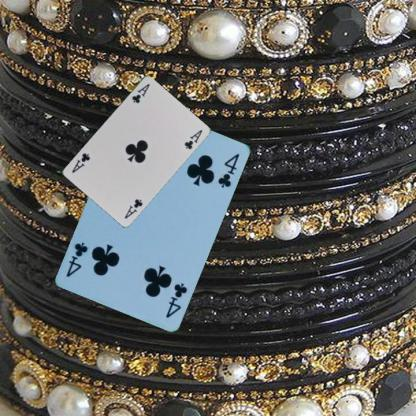4c: (162, 280, 188, 319)
Ac: (129, 81, 151, 104), (122, 196, 144, 219)
